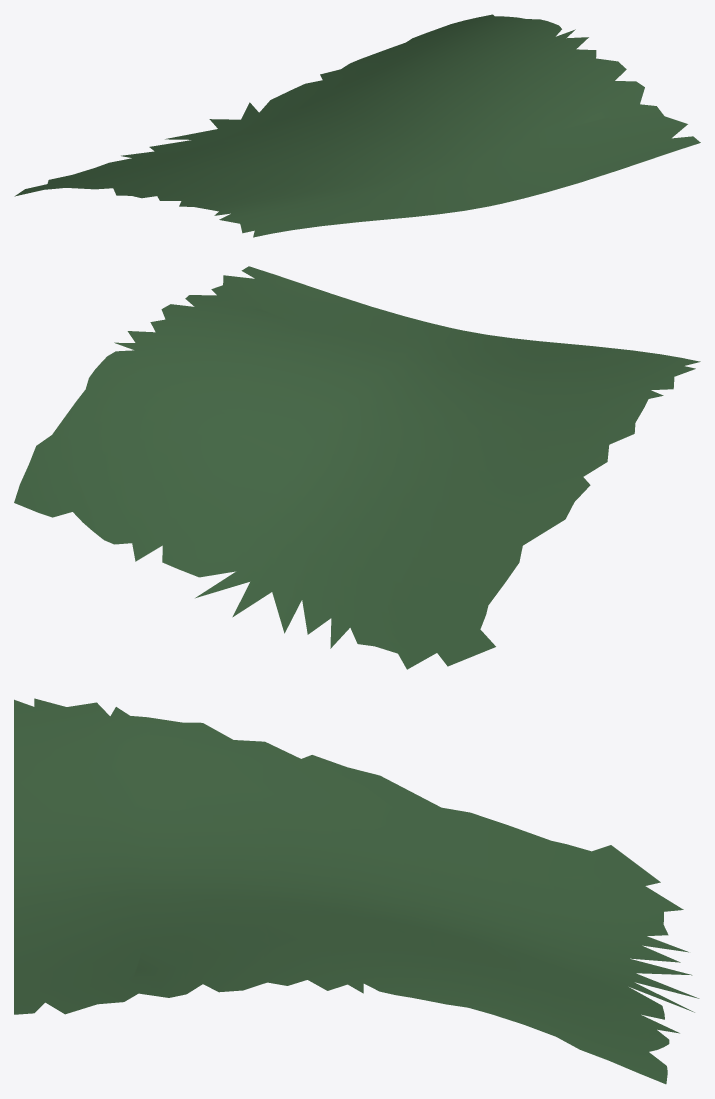
The model's file is payo_land_xm2_y10.glb.
3 views of the same model, one above another, from view 1: azimuth 30°, elevation 25°; view 2: azimuth 150°, elevation 25°; view 3: azimuth 270°, elevation 25° (orthographic). The views are drawn at different scales.
Parts seen in each view (by area): view 1: payo_land_xm2_y10; view 2: payo_land_xm2_y10; view 3: payo_land_xm2_y10.
Part boxes in pixels (<box>): payo_land_xm2_y10: <box>14,14,700,237</box>; payo_land_xm2_y10: <box>14,266,700,669</box>; payo_land_xm2_y10: <box>14,698,699,1084</box>.
Size of the model in its own units: 275 by 77.69 by 257.
